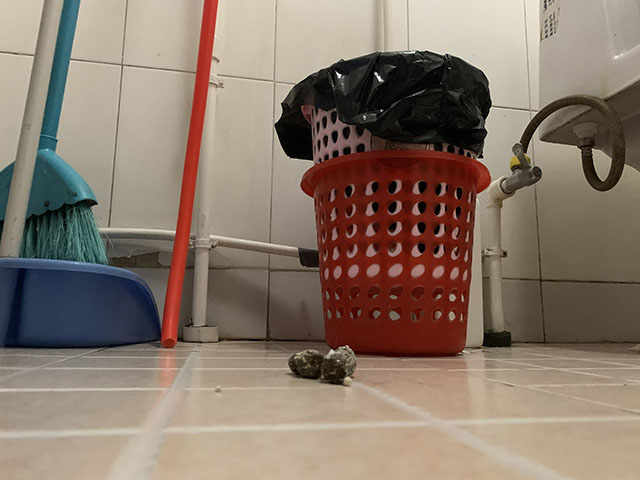feces: (287, 342, 358, 386)
trash can: (299, 147, 494, 359)
